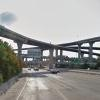Bridge: (2, 19, 97, 61)
